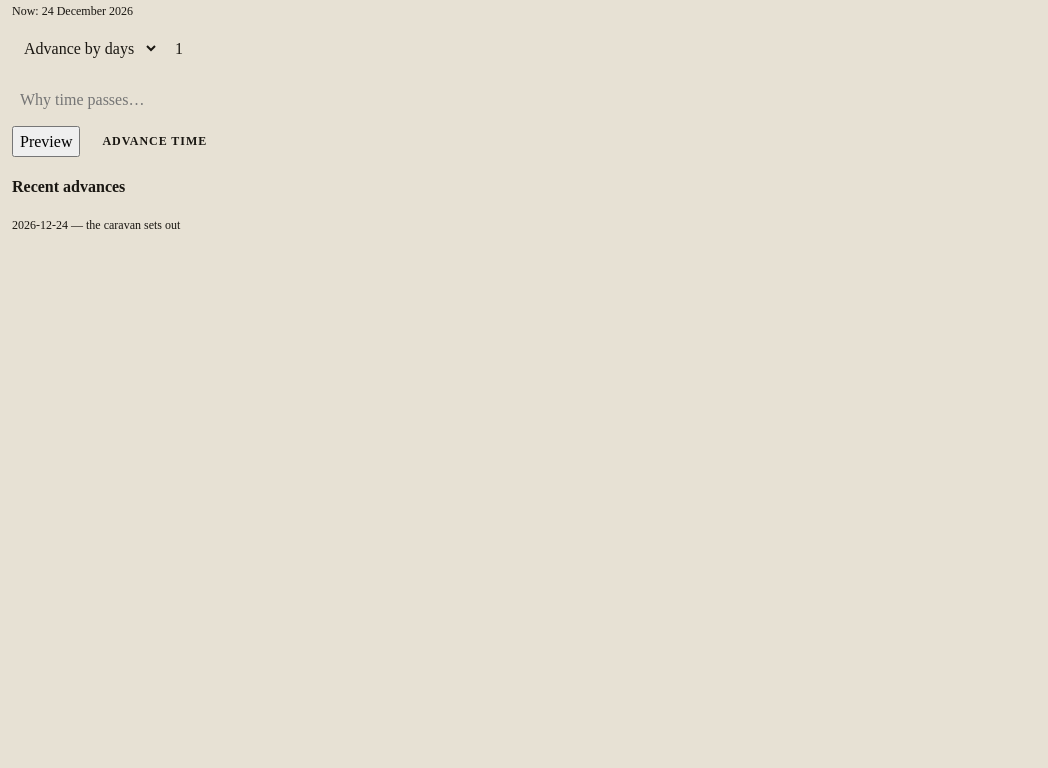
Test case: a checkpoint retried after a lost response asks for the same copy
Check: the text "Now: 24 December 2026" is shown, box [12,4,133,18]
Replace the text in the number field named "Days" with "90" at (602, 48), box [167,31,1036,66]
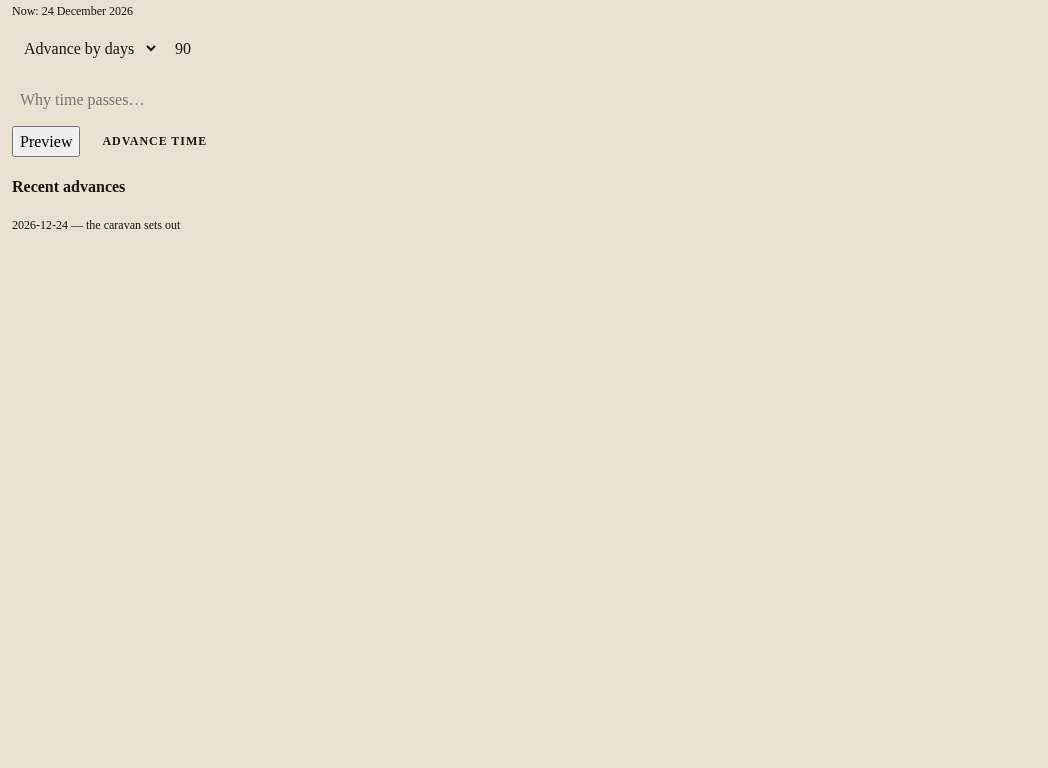
Type "a season passes" into the field named "Reason" at (120, 100), box [12,86,228,114]
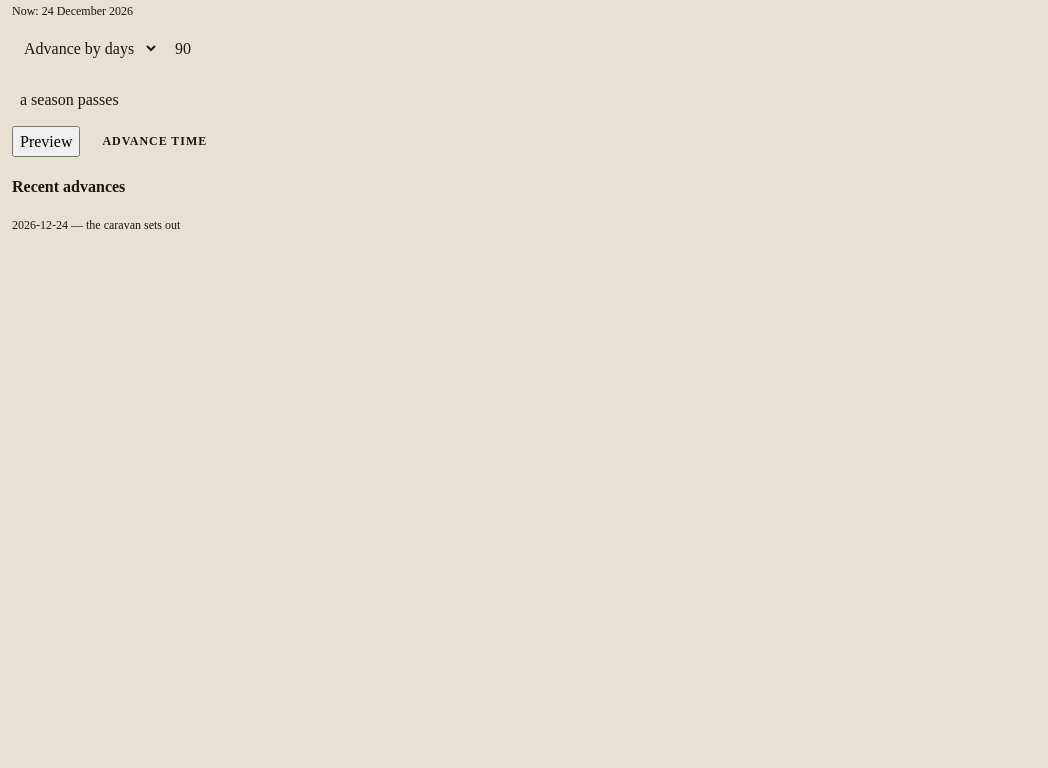
Click the button "Advance time" at (155, 142), box [88,126,221,157]
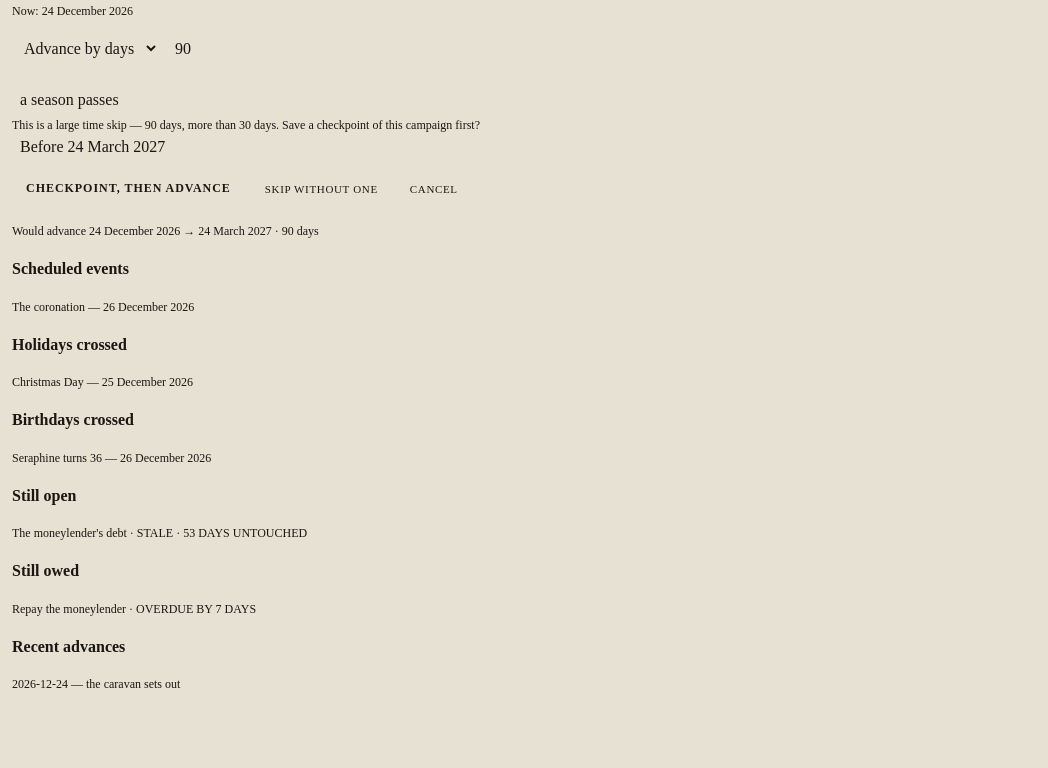
Check: the text "large time skip" is shown, box [12,118,145,132]
Click the button "Checkpoint, then advance" at (128, 188), box [12,173,245,204]
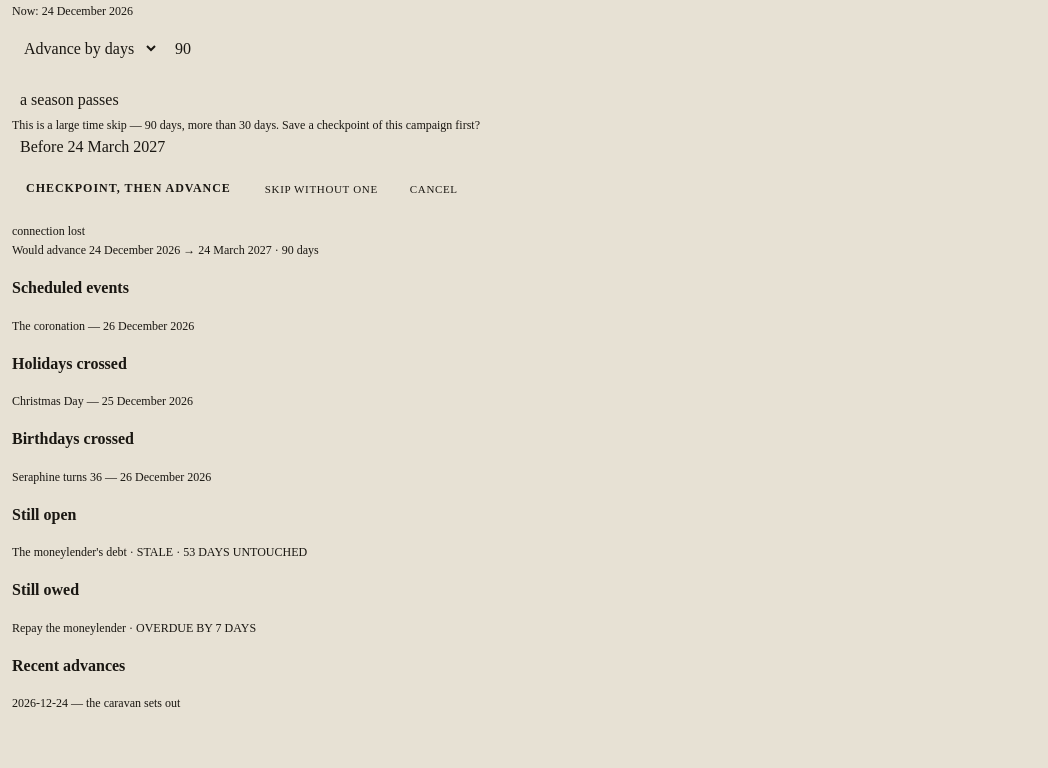
Check: the text "connection lost" is shown, box [12,224,85,238]
Click the button "Checkpoint, then advance" at (128, 188), box [12,173,245,204]
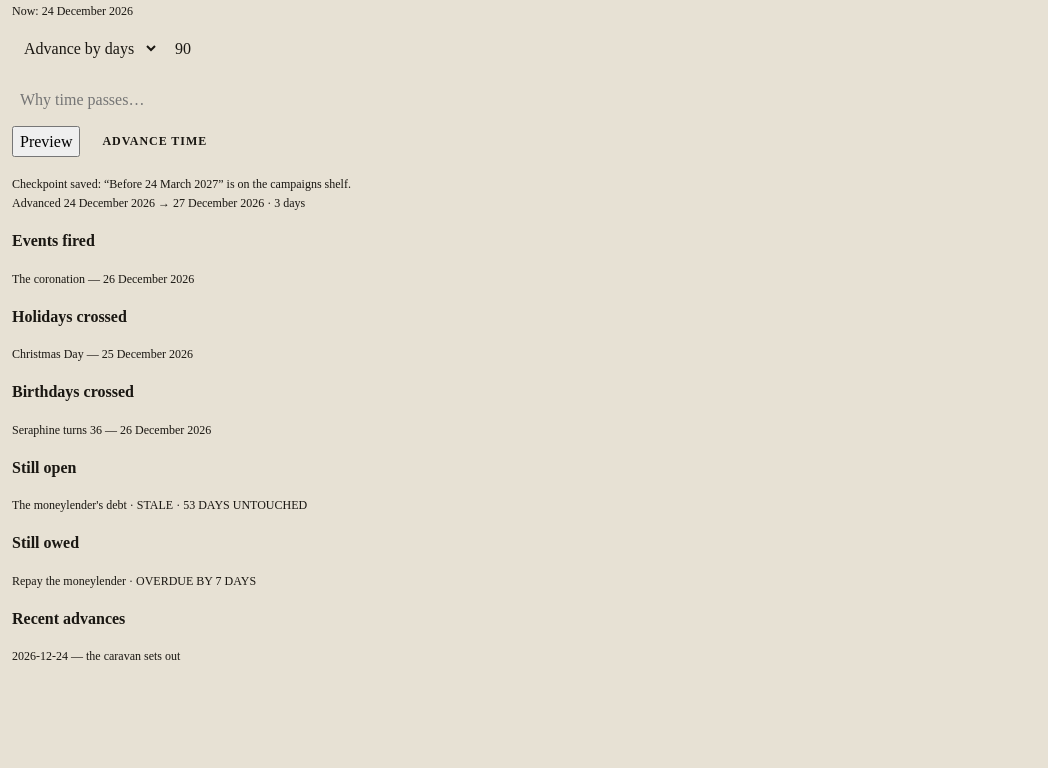
Check: the text "Advanced 24 December 2026 → 27 December 2026 · 3 days" is shown, box [12,196,305,210]
